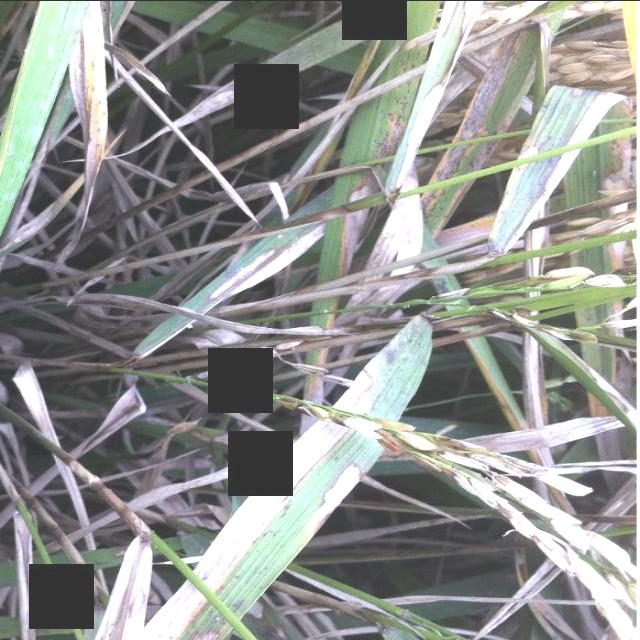Bacterial_Leaf_Blight: (132, 370, 378, 640), (420, 25, 537, 236), (487, 87, 624, 258), (384, 0, 482, 197), (328, 116, 408, 276), (206, 224, 327, 302)
